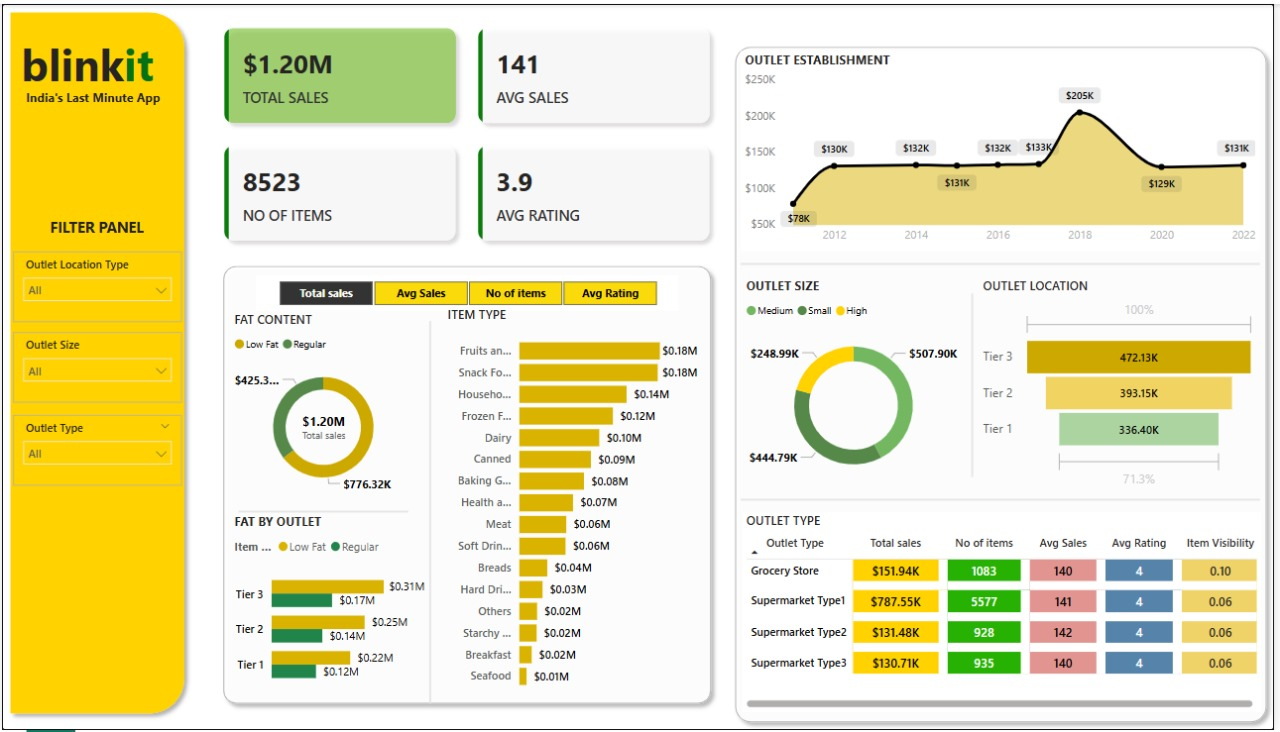

The dashboard page shown, as its layout file describes it:
{"tool":"powerbi","page":{"name":"Page 1","canvas":[1400,800],"ordinal":0},"visuals":[{"type":"shape","box":[0,0,210,790.7],"z":0},{"type":"textbox","box":[16.4,28.6,177.2,76.3],"z":1000},{"type":"textbox","box":[16.4,88.6,167.7,31.4],"z":2000},{"type":"cardVisual","fields":{"Data":["BlinkIT Grocery Data.Total sales","BlinkIT Grocery Data.Avg Sales","BlinkIT Grocery Data.No of items","BlinkIT Grocery Data.Avg Rating"]},"box":[227.7,9.5,569.9,269.9],"z":3000},{"type":"shape","box":[234.5,279.5,554.9,500.3],"z":4000},{"type":"slicer","fields":{"Values":["metrics.metrics"]},"box":[279.5,298.6,464.9,39.5],"z":5000},{"type":"cardVisual","fields":{"Data":["BlinkIT Grocery Data.Total sales"]},"box":[308.1,433.5,92.7,54.5],"z":6000},{"type":"clusteredBarChart","title":"FAT BY OUTLET ","fields":{"Y":["BlinkIT Grocery Data.Total sales"],"Category":["BlinkIT Grocery Data.Outlet Location Type"],"Series":["BlinkIT Grocery Data.Item Fat Content"]},"box":[250.9,560.3,219.5,204.5],"z":7000},{"type":"shape","box":[260.4,549.4,186.8,19.1],"z":8000},{"type":"shape","box":[456.7,349,28.6,421.3],"z":9000},{"type":"barChart","title":"ITEM TYPE","fields":{"Y":["BlinkIT Grocery Data.Total sales"],"Category":["BlinkIT Grocery Data.Item Type"]},"box":[485.3,332.7,284.9,432.2],"z":10000},{"type":"shape","box":[797.6,38.2,602.6,762.1],"z":11000},{"type":"lineChart","title":"OUTLET ESTABLISHMENT","fields":{"Category":["BlinkIT Grocery Data.Outlet Establishment Year"],"Y":["BlinkIT Grocery Data.Total sales"]},"box":[812.5,51.8,571.2,220.9],"z":12000},{"type":"shape","box":[812.5,279.5,571.2,13.6],"z":13000},{"type":"donutChart","title":"FAT CONTENT ","fields":{"Y":["BlinkIT Grocery Data.Total sales"],"Category":["BlinkIT Grocery Data.Item Fat Content"]},"box":[250.9,338.1,205.9,211.3],"z":14000},{"type":"donutChart","title":"OUTLET SIZE","fields":{"Y":["BlinkIT Grocery Data.Total sales"],"Category":["BlinkIT Grocery Data.Outlet Size"]},"box":[813.9,301.3,245.4,237.2],"z":15000},{"type":"shape","box":[1059.3,319,16.4,201.8],"z":16000},{"type":"funnel","title":"OUTLET LOCATION","fields":{"Category":["BlinkIT Grocery Data.Outlet Location Type"],"Y":["Sum(BlinkIT Grocery Data.Sales)"]},"box":[1074.3,301.3,309.5,237.2],"z":17000},{"type":"shape","box":[812.5,533.1,571.2,25.9],"z":18000},{"type":"pivotTable","title":"OUTLET TYPE","fields":{"Rows":["BlinkIT Grocery Data.Outlet Type"],"Values":["BlinkIT Grocery Data.Total sales","BlinkIT Grocery Data.No of items","BlinkIT Grocery Data.Avg Sales","BlinkIT Grocery Data.Avg Rating","Avg(BlinkIT Grocery Data.Item Visibility)"]},"box":[813.9,559,571.2,220.9],"z":19000},{"type":"slicer","fields":{"Values":["BlinkIT Grocery Data.Outlet Location Type"]},"box":[12.3,272.7,185.4,77.7],"z":19001},{"type":"slicer","fields":{"Values":["BlinkIT Grocery Data.Outlet Size"]},"box":[12.3,361.3,185.4,77.7],"z":19002},{"type":"slicer","fields":{"Values":["BlinkIT Grocery Data.Outlet Type"]},"box":[12.3,452.6,185.4,77.7],"z":19003},{"type":"textbox","box":[28.6,229,151.3,34.1],"z":19004}]}

Visuals, with their boxes in screenshot pixels (x1, y1, x2, y2), scaled from the page's 1400x800 canvas onto the 1280x732 screenshot:
shape: <box>0,0,192,723</box>
textbox: <box>15,26,177,96</box>
textbox: <box>15,81,168,110</box>
cardVisual - BlinkIT Grocery Data.Total sales x BlinkIT Grocery Data.Avg Sales: <box>208,9,729,256</box>
shape: <box>214,256,722,714</box>
slicer - metrics.metrics: <box>256,273,681,309</box>
cardVisual - BlinkIT Grocery Data.Total sales: <box>282,397,366,447</box>
"FAT BY OUTLET " clusteredBarChart: <box>229,513,430,700</box>
shape: <box>238,503,409,520</box>
shape: <box>418,319,444,705</box>
"ITEM TYPE" barChart: <box>444,304,704,700</box>
shape: <box>729,35,1279,731</box>
"OUTLET ESTABLISHMENT" lineChart: <box>743,47,1265,250</box>
shape: <box>743,256,1265,268</box>
"FAT CONTENT " donutChart: <box>229,309,418,503</box>
"OUTLET SIZE" donutChart: <box>744,276,969,493</box>
shape: <box>969,292,983,477</box>
"OUTLET LOCATION" funnel: <box>982,276,1265,493</box>
shape: <box>743,488,1265,511</box>
"OUTLET TYPE" pivotTable: <box>744,511,1266,714</box>
slicer - BlinkIT Grocery Data.Outlet Location Type: <box>11,250,181,321</box>
slicer - BlinkIT Grocery Data.Outlet Size: <box>11,331,181,402</box>
slicer - BlinkIT Grocery Data.Outlet Type: <box>11,414,181,485</box>
textbox: <box>26,210,164,241</box>
